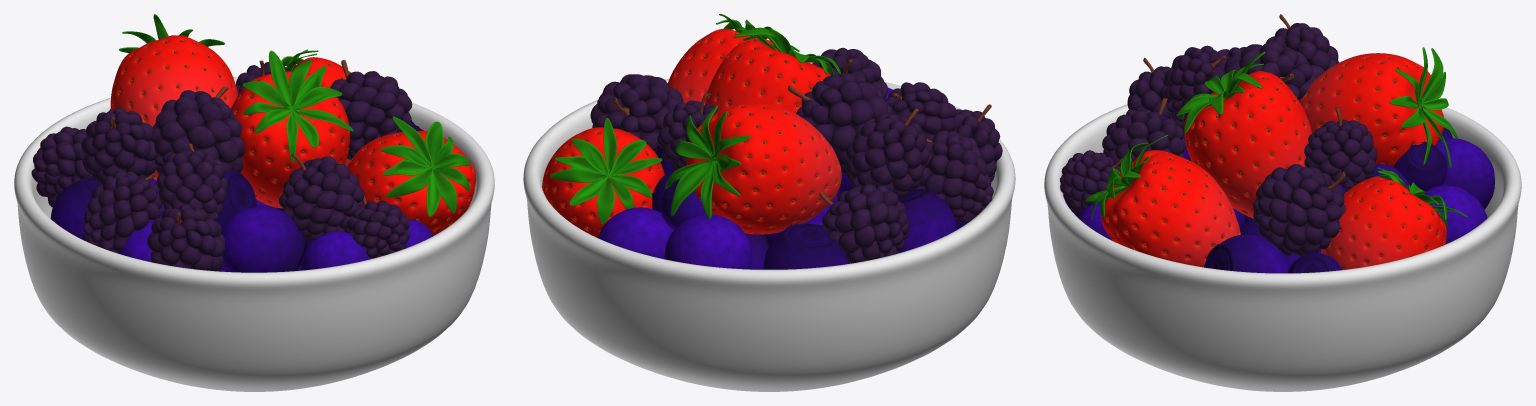
3 views of the same model, side by side, from view 1: azimuth 30°, elevation 25°; view 2: azimuth 150°, elevation 25°; view 3: azimuth 270°, elevation 25° (orthographic). The views are drawn at different scales.
Visible parts, largest first — view 1: Cylinder, Strawberry-D, Sphere.037, Strawberry-B, Strawberry-C, Blackberry-B.002, Blackberry-B, Blackberry-C, Blackberry-A.001, Blackberry-B.004, Blackberry-A, Blackberry-C.001 (+4 smaller); view 2: Cylinder, Strawberry-C, Sphere.037, Strawberry-A, Strawberry-D, Blackberry-A.001, Blackberry-B.001, Blackberry-B.002, Blackberry-C, Blackberry-B.004, Strawberry-B, Blackberry-C.001 (+3 smaller); view 3: Cylinder, Strawberry-D, Strawberry-B, Strawberry-C, Sphere.037, Strawberry-A, Blackberry-B.004, Blackberry-B.005, Blackberry-B, Blackberry-C.001, Blackberry-B.002, Blackberry-B.003 (+2 smaller).
Part boxes in pixels (x1,y1,x2,y2): Cylinder: (14,77,494,391); Strawberry-D: (231,50,353,208); Sphere.037: (50,109,433,272); Strawberry-B: (347,116,475,235); Strawberry-C: (110,14,237,180); Blackberry-B.002: (151,86,244,173); Blackberry-B: (279,154,364,241); Blackberry-C: (83,170,162,252); Blackberry-A.001: (81,107,157,185); Blackberry-B.004: (330,60,412,159); Blackberry-A: (147,204,224,271); Blackberry-C.001: (156,143,227,222); Cylinder: (523,79,1015,391); Strawberry-C: (665,102,841,234); Sphere.037: (598,87,992,269); Strawberry-A: (541,117,664,237); Strawberry-D: (705,27,840,113); Blackberry-A.001: (846,108,929,198); Blackberry-B.001: (819,184,908,263); Blackberry-B.002: (787,73,892,174); Blackberry-C: (912,130,993,223); Blackberry-B.004: (590,74,683,152); Strawberry-B: (667,14,799,105); Blackberry-C.001: (884,82,957,138); Cylinder: (1044,104,1521,391); Strawberry-D: (1176,51,1312,218); Strawberry-B: (1085,135,1240,267); Strawberry-C: (1300,47,1457,167); Sphere.037: (1063,116,1494,273); Strawberry-A: (1321,167,1467,269); Blackberry-B.004: (1253,164,1345,255); Blackberry-B.005: (1304,107,1377,191); Blackberry-B: (1102,98,1186,166); Blackberry-C.001: (1164,45,1227,121); Blackberry-B.002: (1220,41,1315,104); Blackberry-B.003: (1060,150,1122,212).
Bounding box in the file's own units: 1096 × 727 × 1096.
4 materials, 3 textured.
